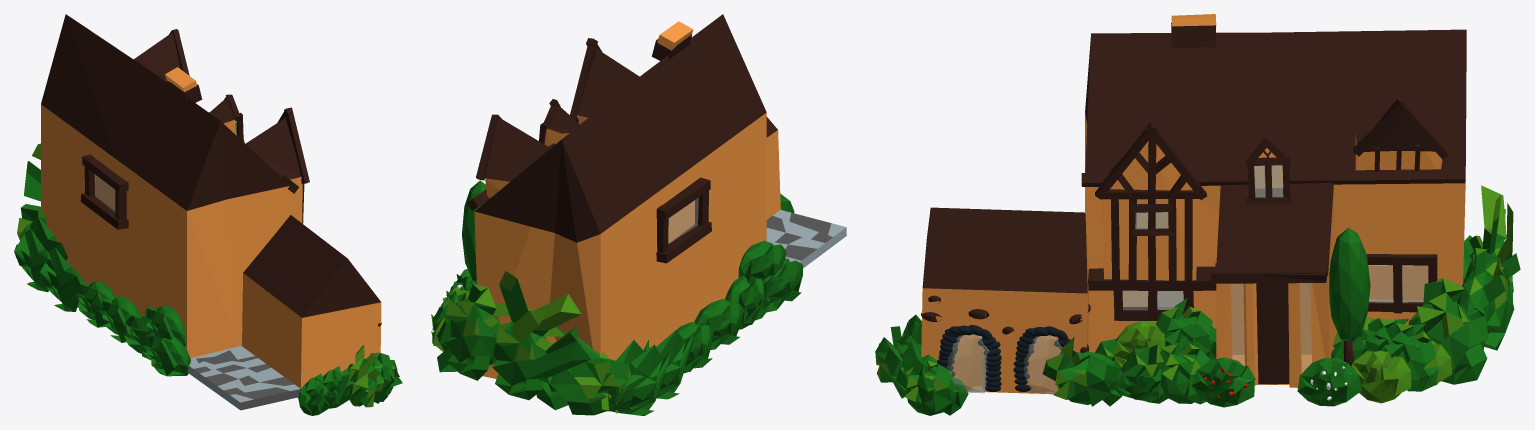
3 views of the same model, side by side, from view 1: azimuth 30°, elevation 25°; view 2: azimuth 150°, elevation 25°; view 3: azimuth 270°, elevation 25° (orthographic). The views are drawn at different scales.
Visible parts, largest first — view 1: meshes[0]-0, meshes[0]-1, meshes[0]-3, meshes[0]-6, meshes[0]-5, meshes[0]-4, meshes[0]-2; view 2: meshes[0]-1, meshes[0]-0, meshes[0]-3, meshes[0]-4, meshes[0]-6, meshes[0]-5, meshes[0]-2; view 3: meshes[0]-1, meshes[0]-0, meshes[0]-3, meshes[0]-4, meshes[0]-2, meshes[0]-9.
Boxes of the visible parts, bbox=[...] form: meshes[0]-0: bbox=[41, 67, 381, 397]; meshes[0]-1: bbox=[41, 14, 381, 326]; meshes[0]-3: bbox=[14, 123, 402, 415]; meshes[0]-6: bbox=[187, 346, 300, 410]; meshes[0]-5: bbox=[194, 350, 300, 410]; meshes[0]-4: bbox=[17, 143, 399, 407]; meshes[0]-2: bbox=[95, 121, 236, 211]; meshes[0]-1: bbox=[466, 14, 777, 283]; meshes[0]-0: bbox=[474, 21, 780, 378]; meshes[0]-3: bbox=[432, 180, 802, 415]; meshes[0]-4: bbox=[431, 271, 631, 413]; meshes[0]-6: bbox=[766, 210, 846, 268]; meshes[0]-5: bbox=[766, 212, 832, 260]; meshes[0]-2: bbox=[668, 198, 698, 243]; meshes[0]-1: bbox=[921, 22, 1466, 384]; meshes[0]-0: bbox=[921, 14, 1465, 394]; meshes[0]-3: bbox=[875, 204, 1520, 415]; meshes[0]-4: bbox=[875, 185, 1513, 403]; meshes[0]-2: bbox=[947, 165, 1427, 393]; meshes[0]-9: bbox=[937, 325, 1075, 391].
Bounding box in the file's own units: 0.2972 × 0.3498 × 0.5937.
